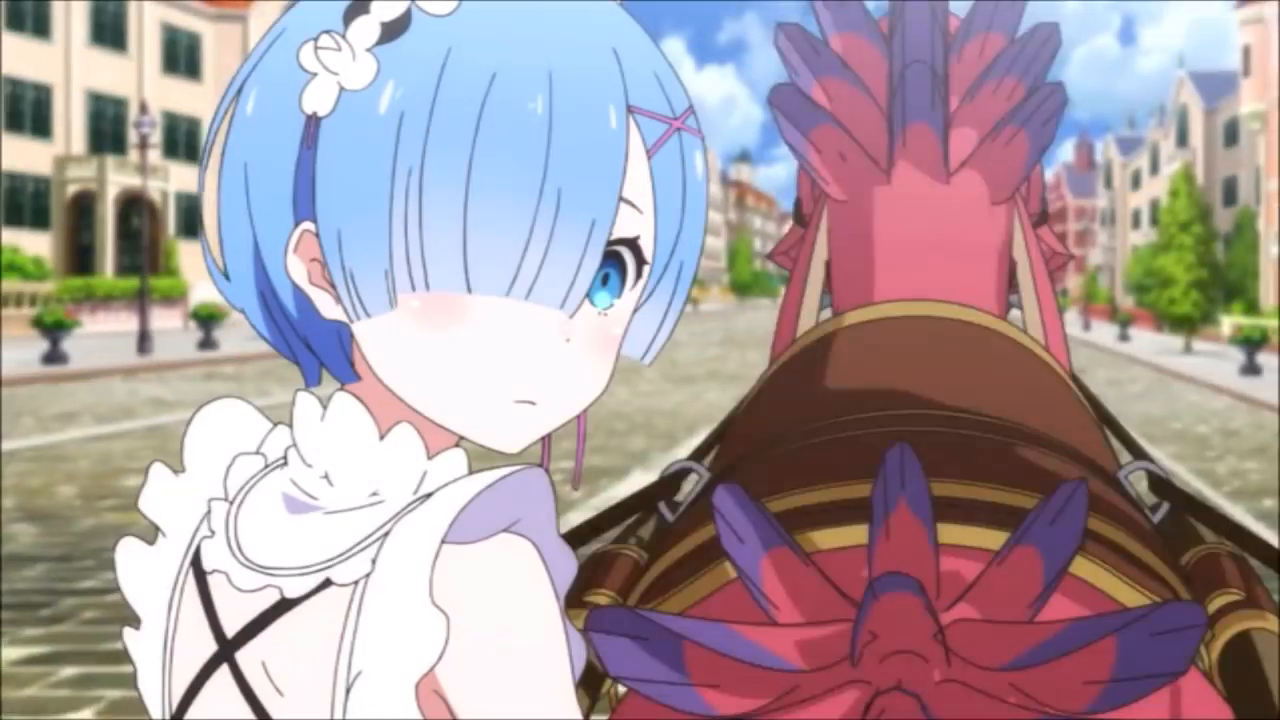REM: (189, 1, 719, 468)
